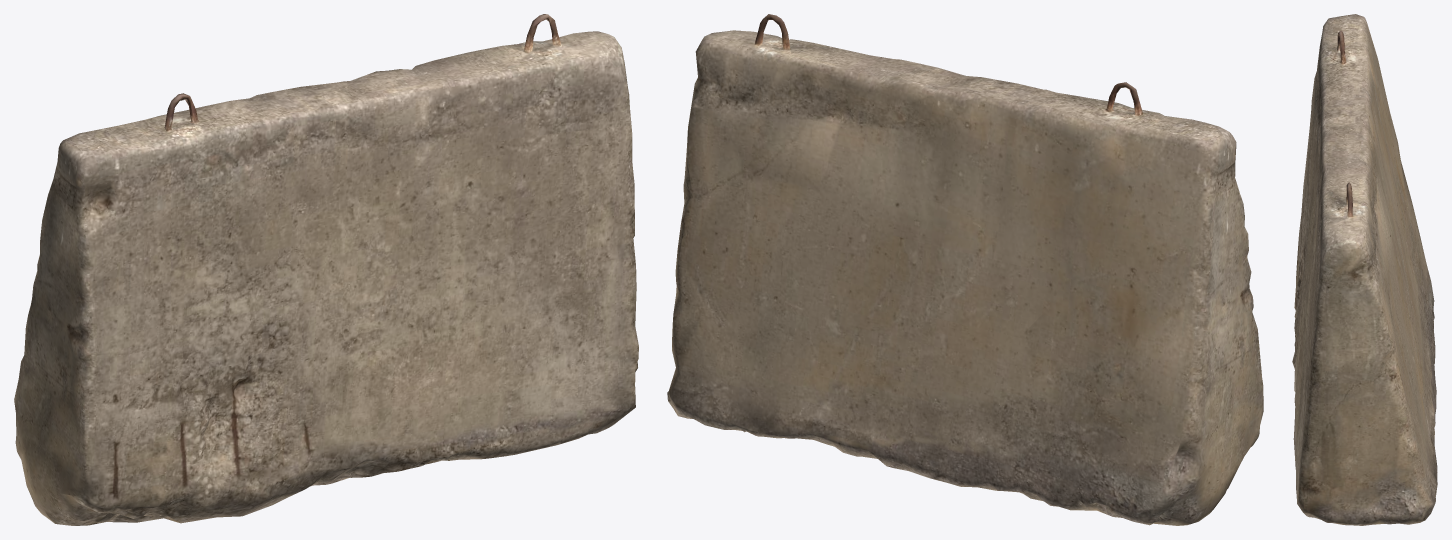
File: concrete_road_barrier_02.glb
3 renders of one model, left to right at view 1: azimuth 30°, elevation 25°; view 2: azimuth 150°, elevation 25°; view 3: azimuth 270°, elevation 25°, orthographic. The views are drawn at different scales.
Visible parts, largest first — view 1: concrete_road_barrier_02; view 2: concrete_road_barrier_02; view 3: concrete_road_barrier_02.
Boxes of the visible parts, bbox=[...] form: concrete_road_barrier_02: bbox=[14, 14, 638, 525]; concrete_road_barrier_02: bbox=[667, 14, 1263, 525]; concrete_road_barrier_02: bbox=[1292, 14, 1437, 525].
Bounding box in the file's own units: 1.56 × 1.11 × 0.4418.
Materials: 1 (1 with a texture image).
